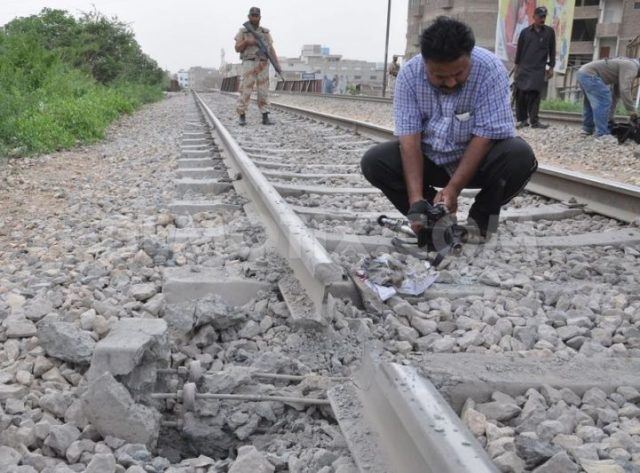crack: (222, 235, 474, 434)
track: (178, 106, 314, 202)
